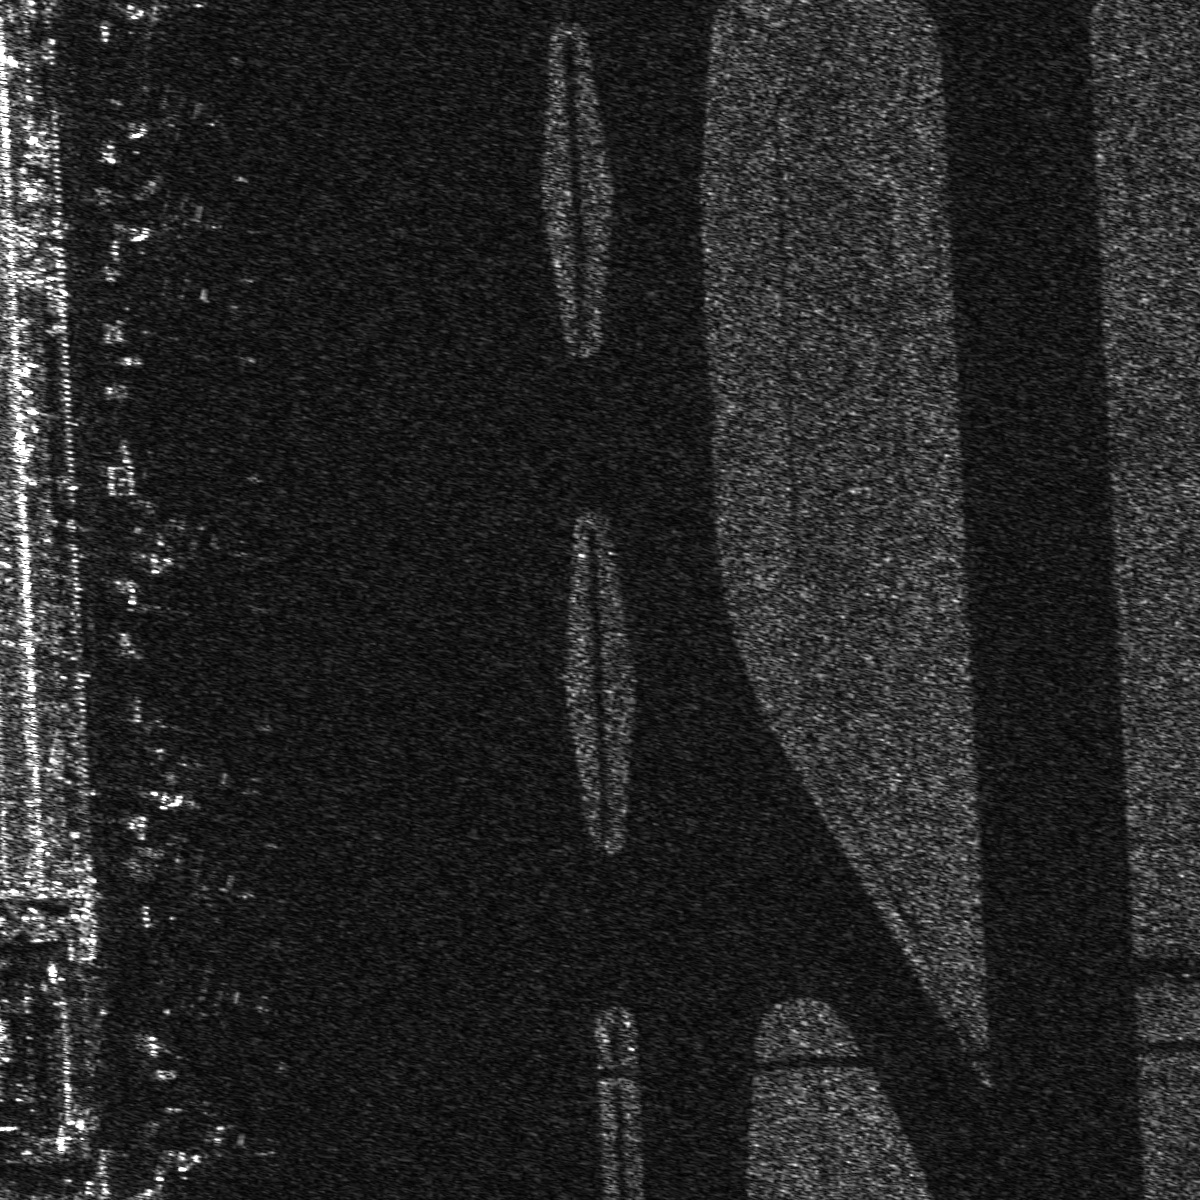A220: (158, 1120, 278, 1192)
A320/321: (152, 957, 279, 1060), (107, 193, 229, 265), (122, 86, 223, 149)
other: (173, 865, 260, 931)
